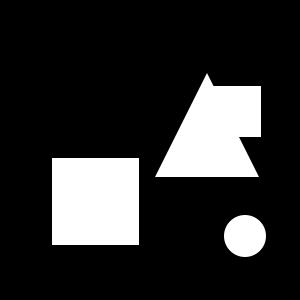circle: (52, 158, 139, 245), (55, 159, 114, 218), (210, 86, 261, 137)
rectangle: (224, 215, 266, 257)
triangle: (155, 73, 259, 177)
